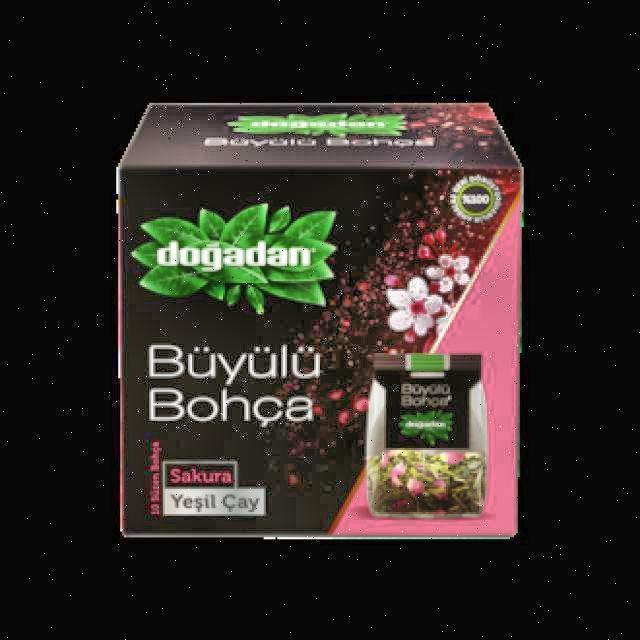cardboard: (116, 102, 525, 541)
